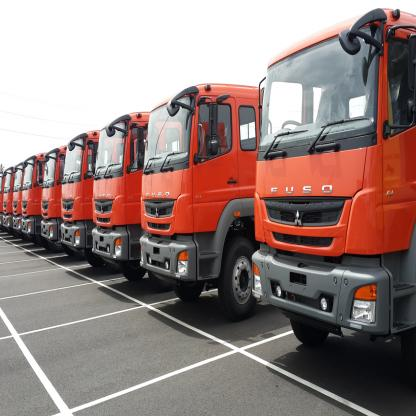truck: (252, 5, 416, 358), (140, 82, 266, 315), (88, 114, 144, 279), (55, 128, 94, 254), (39, 139, 64, 245)
